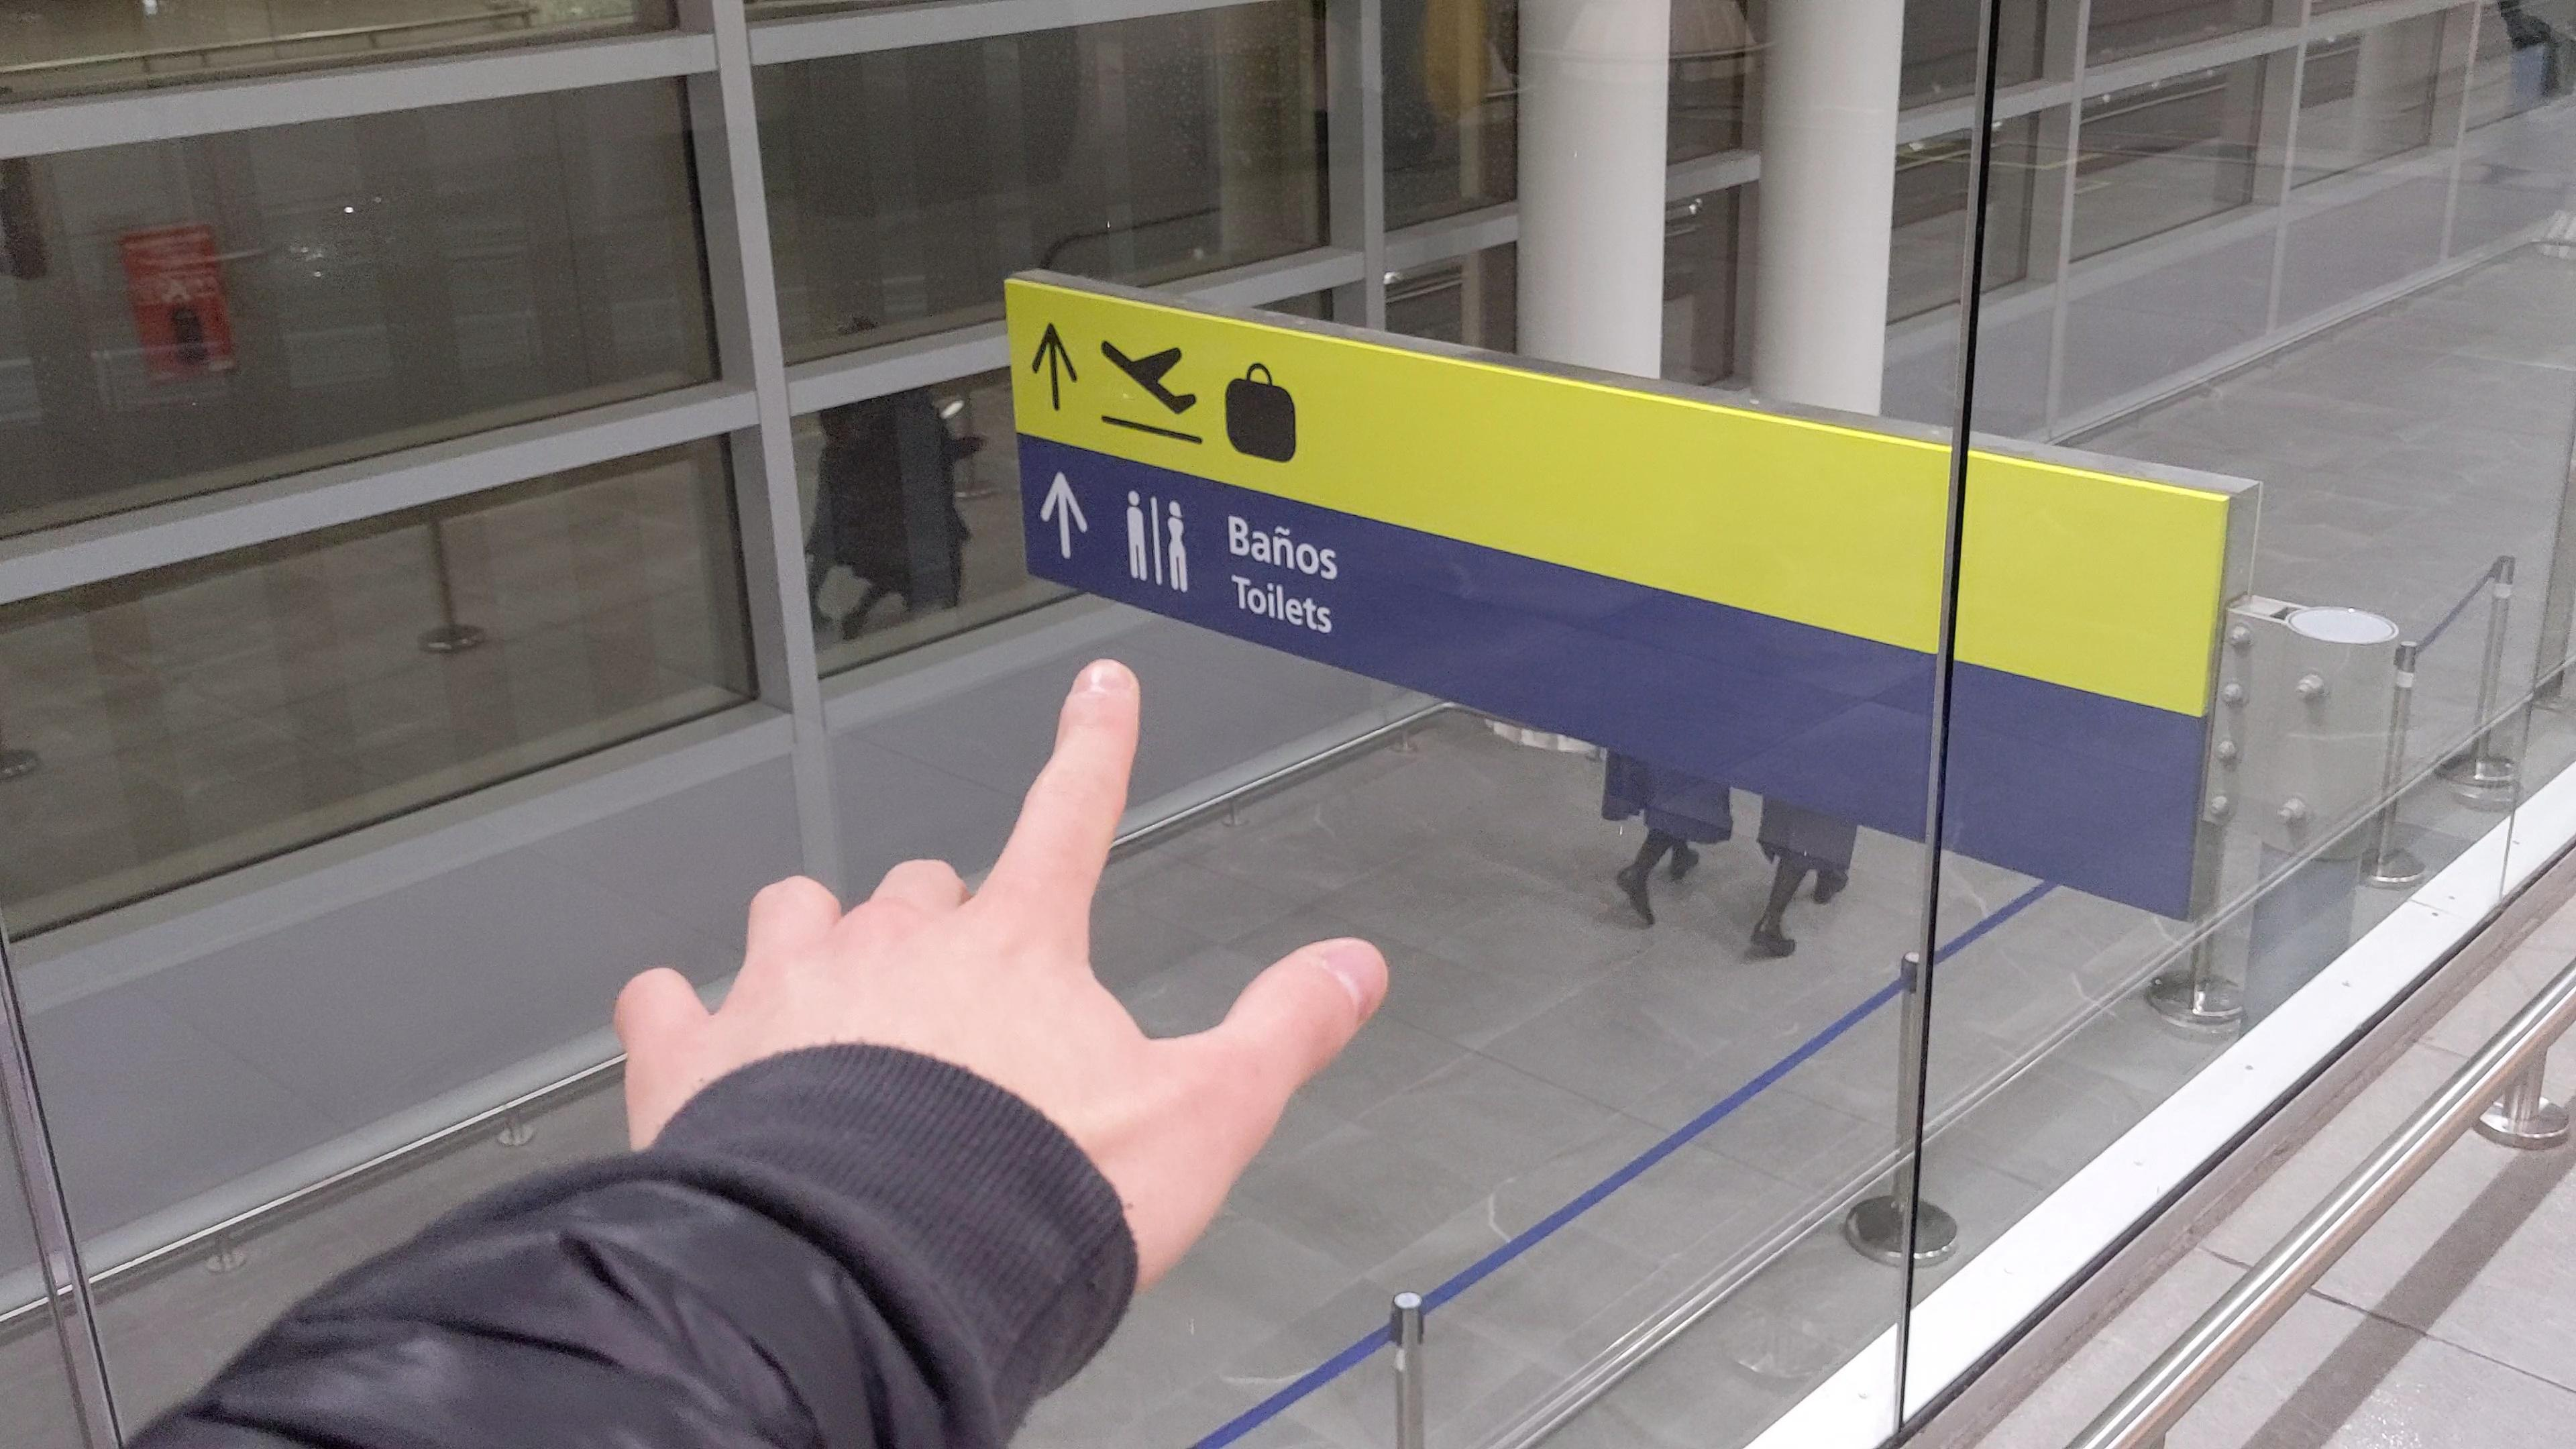airplane symbol: (1093, 331, 1203, 420)
baggage claim: (1218, 360, 1304, 467)
bathrooms: (1118, 485, 1193, 596)
thin up arrow: (1028, 317, 1082, 414), (1038, 467, 1092, 563)
